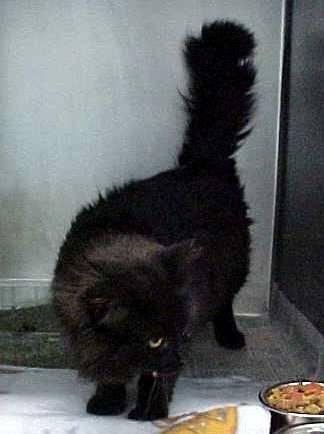cat: (51, 20, 257, 422)
